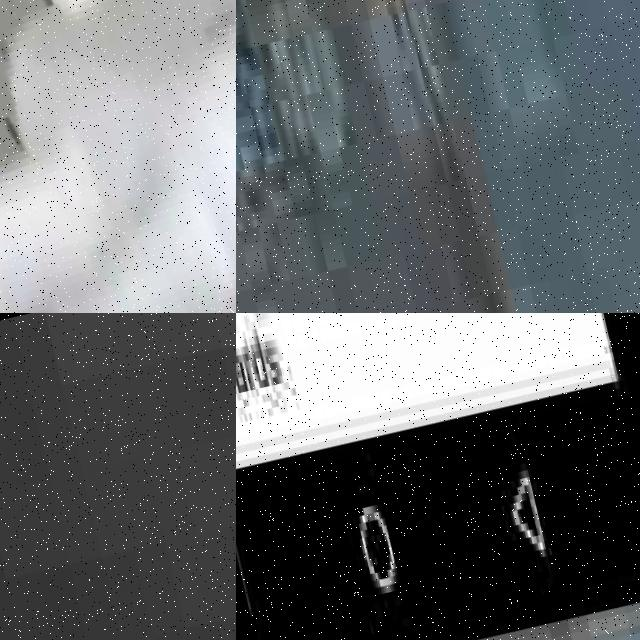drone: (0, 0, 236, 313)
